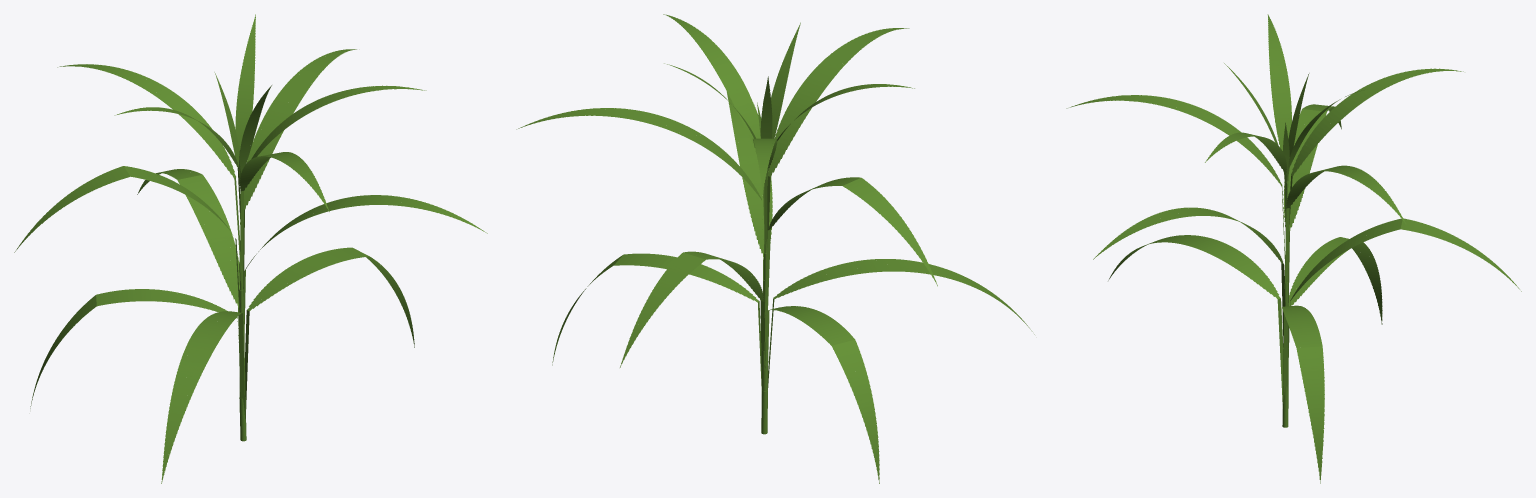
Rendered from maize_005_day_090.dae.
3 renders of one model, left to right at view 1: azimuth 30°, elevation 25°; view 2: azimuth 150°, elevation 25°; view 3: azimuth 270°, elevation 25°, orthographic. The views are drawn at different scales.
Parts seen in each view (by area): view 1: node; view 2: node; view 3: node.
Part boxes in pixels (<box>): node: <box>14,14,487,483</box>; node: <box>516,14,1034,483</box>; node: <box>1066,14,1521,483</box>.
Bounding box in the file's own units: 1.36 × 1.27 × 1.44.
1 material, 1 textured.
